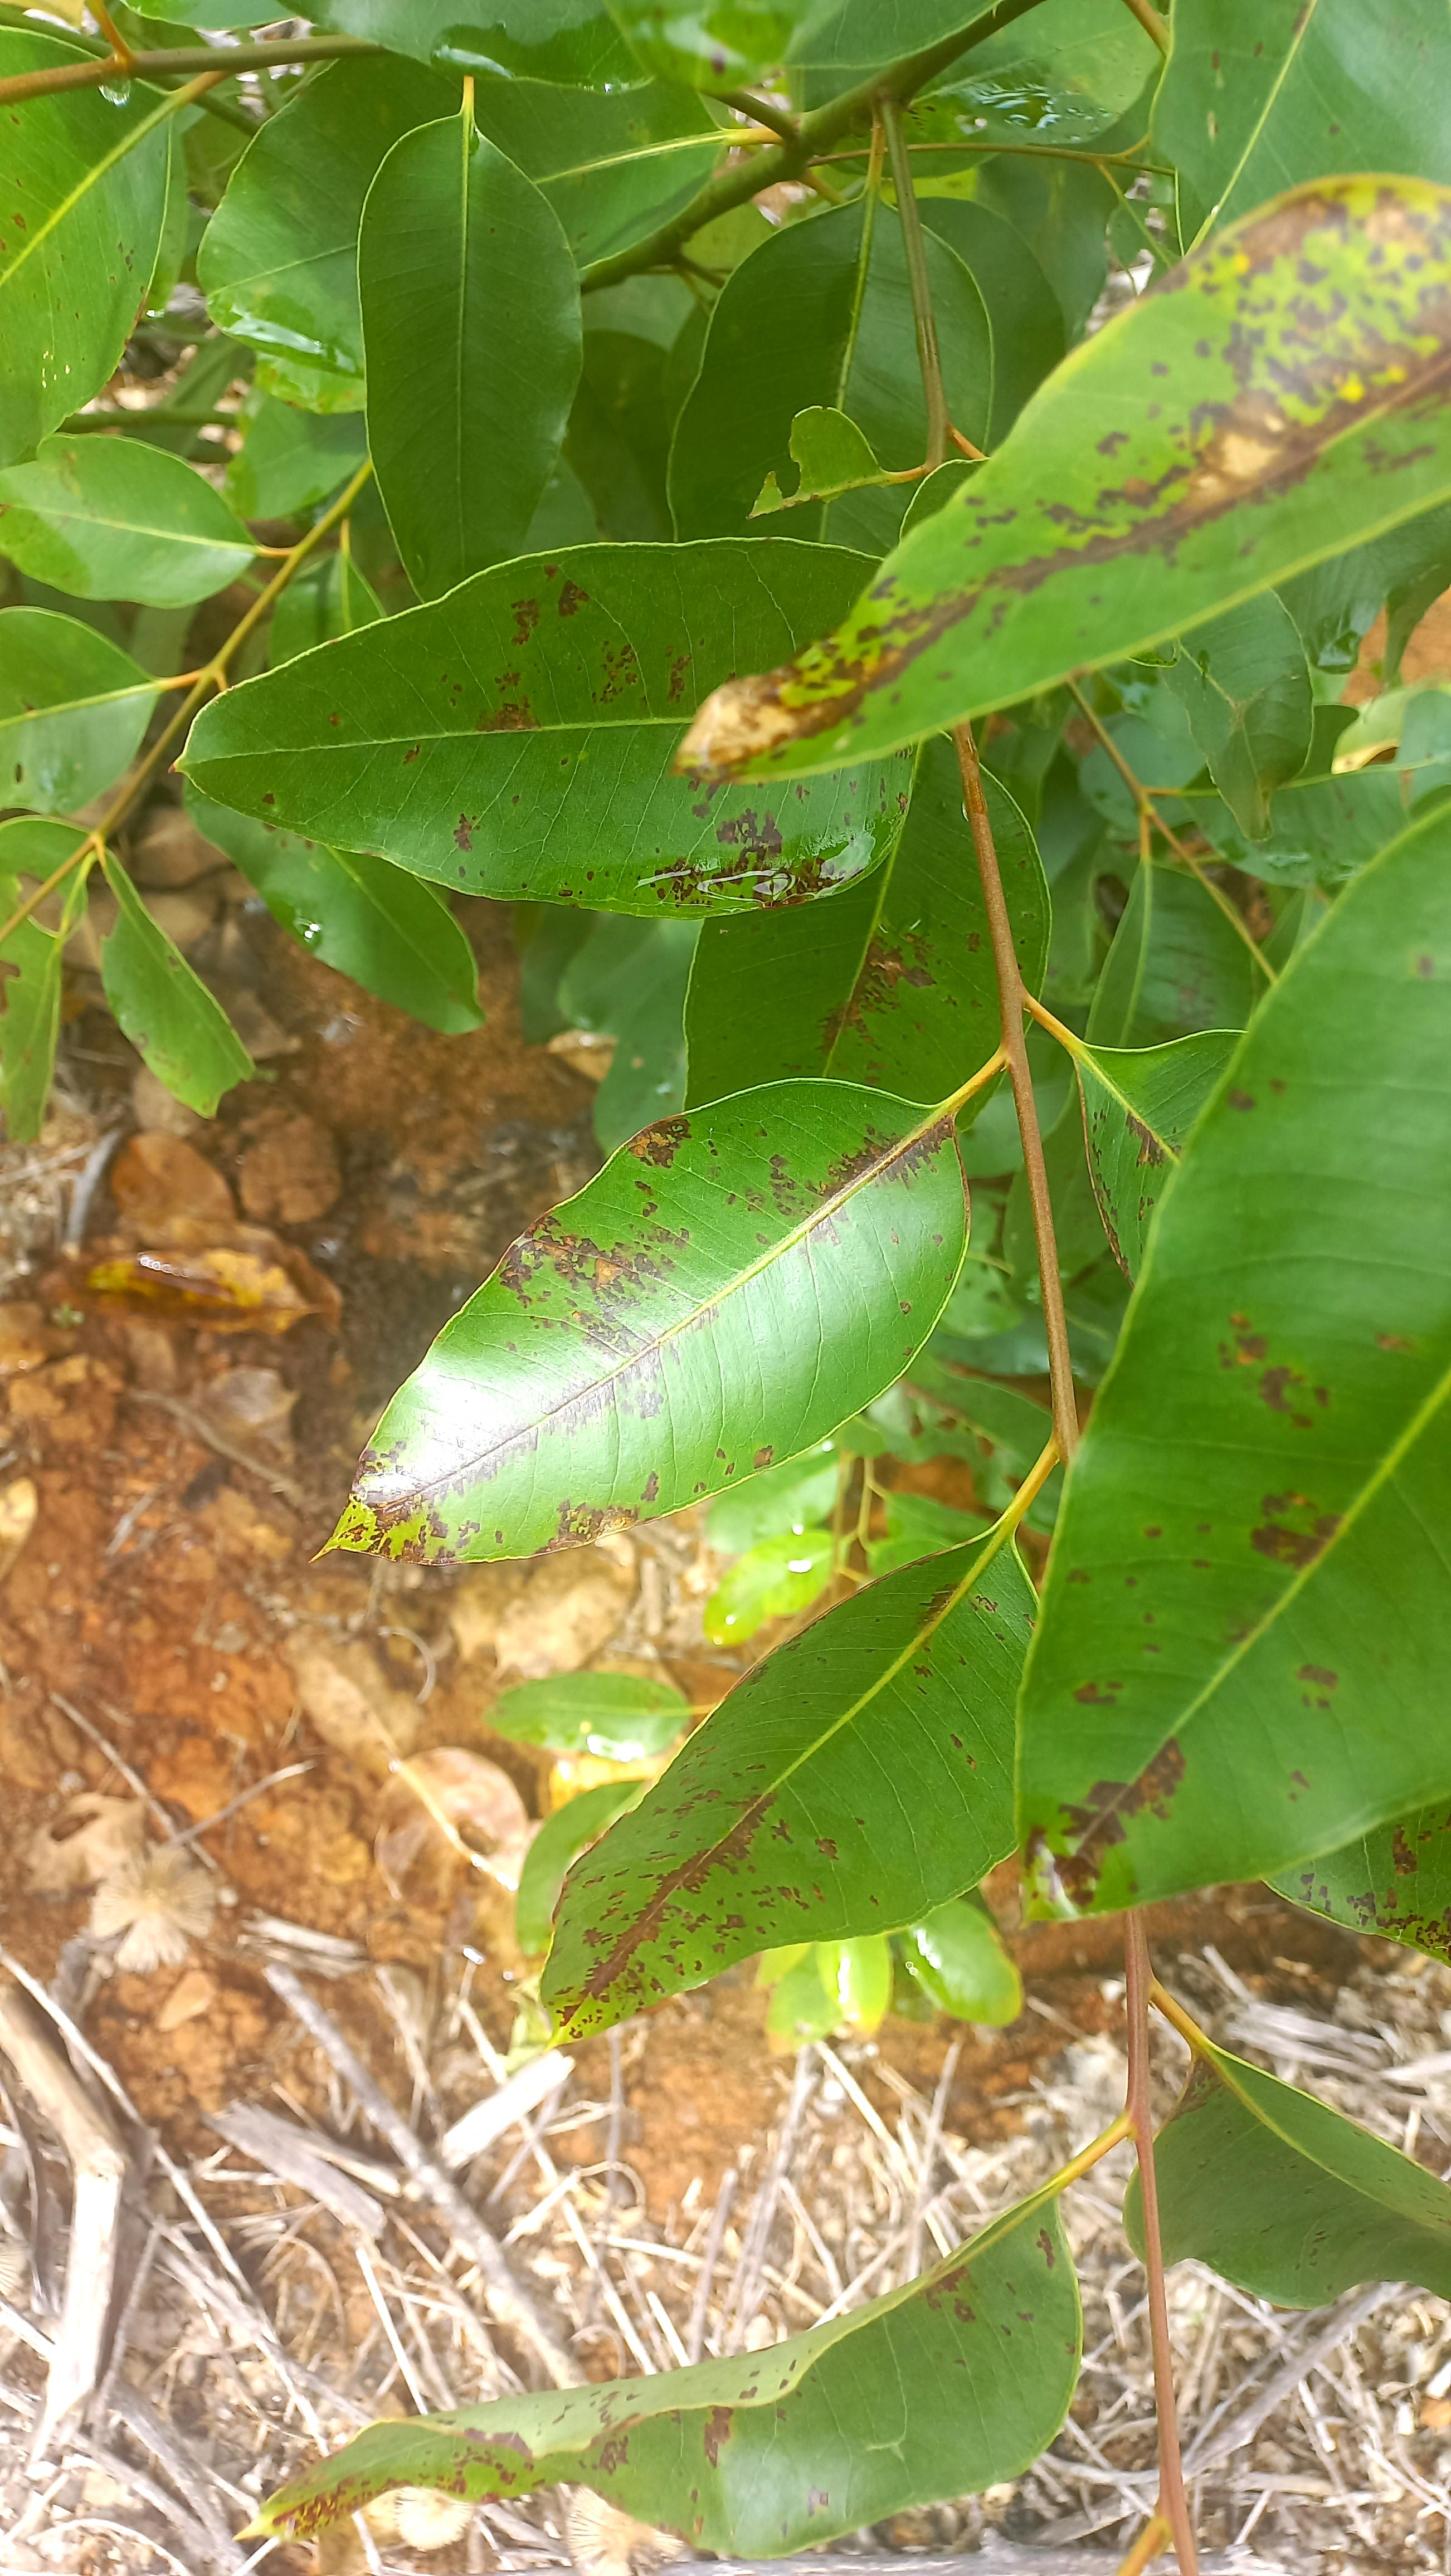Xanthomonas: (702, 152, 1451, 826), (315, 1037, 1021, 1580), (541, 1684, 842, 2070), (292, 2330, 780, 2548), (1010, 1672, 1313, 1923)
